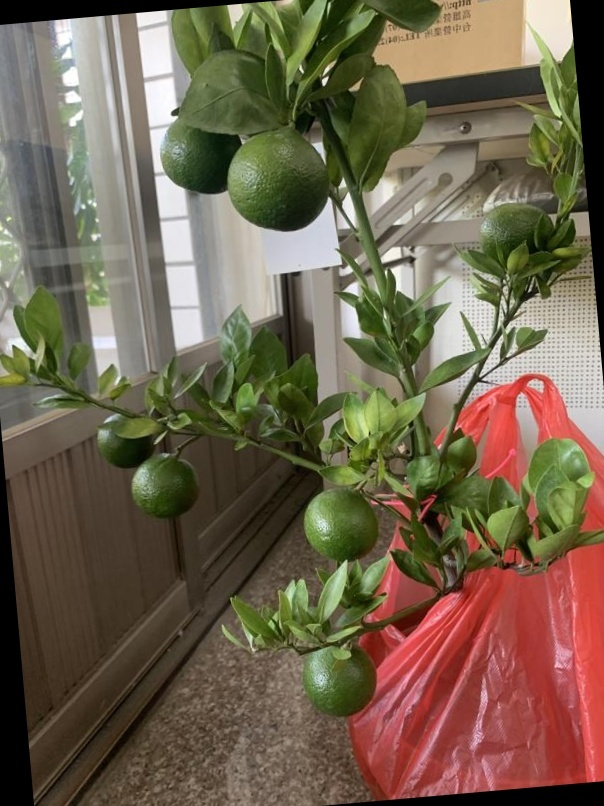Tangerine: (227, 123, 329, 230), (160, 109, 242, 195), (304, 485, 379, 563), (301, 644, 378, 716), (129, 451, 201, 521), (482, 204, 552, 267)
